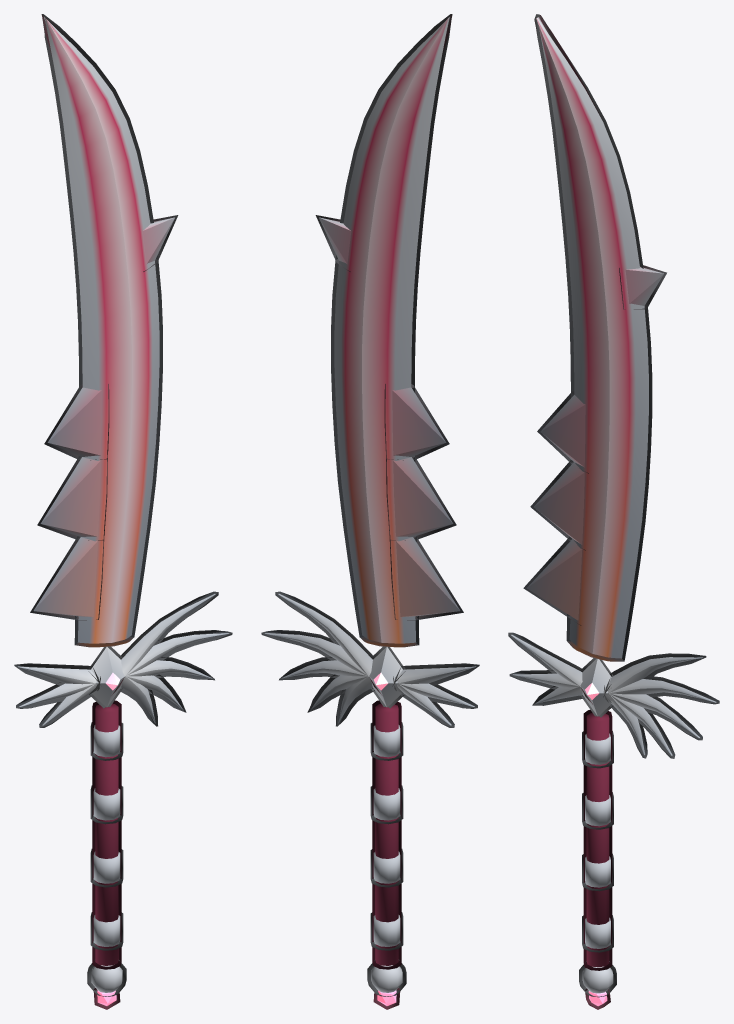
File: w_moon_crescent.glb
The picture shows the model from 3 angles, left to right: view 1: azimuth 30°, elevation 25°; view 2: azimuth 150°, elevation 25°; view 3: azimuth 330°, elevation 25°; orthographic projection. The views are drawn at different scales.
Parts seen in each view (by area): view 1: Weapon_0, Outline, Weapon_2; view 2: Weapon_0, Outline, Weapon_2; view 3: Weapon_0, Outline, Weapon_2.
Part boxes in pixels (x1=…): Weapon_0: x1=17, y1=17, x2=228, y2=992; Outline: x1=14, y1=14, x2=232, y2=1009; Weapon_2: x1=95, y1=703, x2=118, y2=965; Weapon_0: x1=265, y1=16, x2=476, y2=992; Outline: x1=261, y1=14, x2=479, y2=1009; Weapon_2: x1=375, y1=703, x2=398, y2=965; Weapon_0: x1=511, y1=17, x2=716, y2=993; Outline: x1=508, y1=14, x2=719, y2=1009; Weapon_2: x1=586, y1=713, x2=609, y2=967.
Bounding box in the file's own units: 0.2974 × 1.32 × 0.0616.
